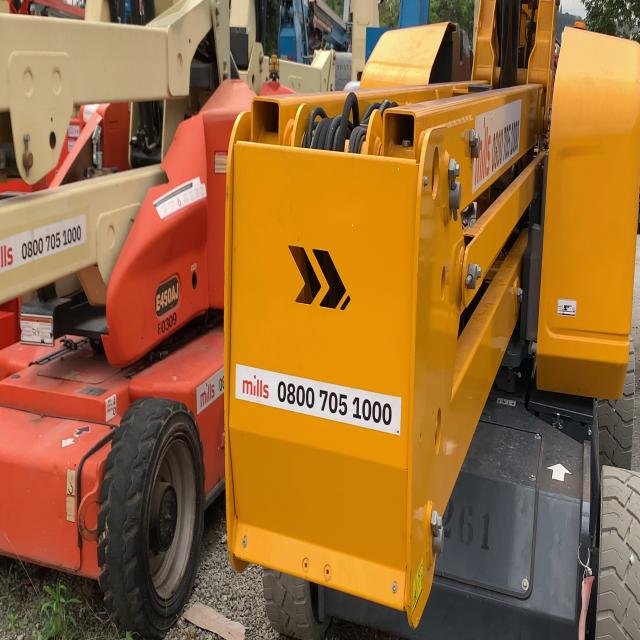Adesivo Longo: (234, 361, 402, 437)
